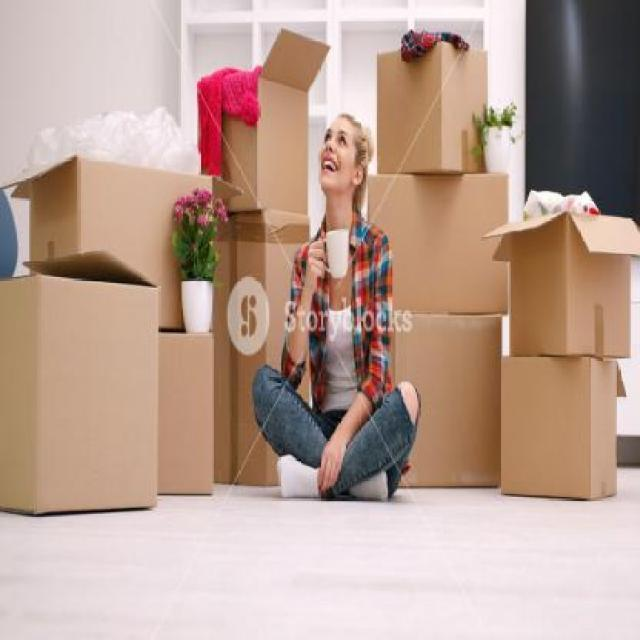box: (0, 270, 160, 516), (26, 155, 212, 330), (216, 209, 314, 490), (199, 34, 331, 216), (481, 209, 640, 358), (386, 312, 504, 488), (375, 172, 508, 316), (503, 356, 631, 502), (374, 42, 496, 176), (158, 332, 218, 496)
